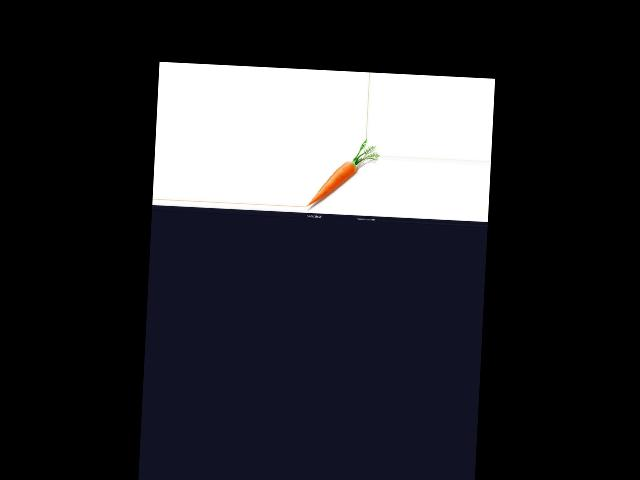carrot: (307, 146, 364, 210)
